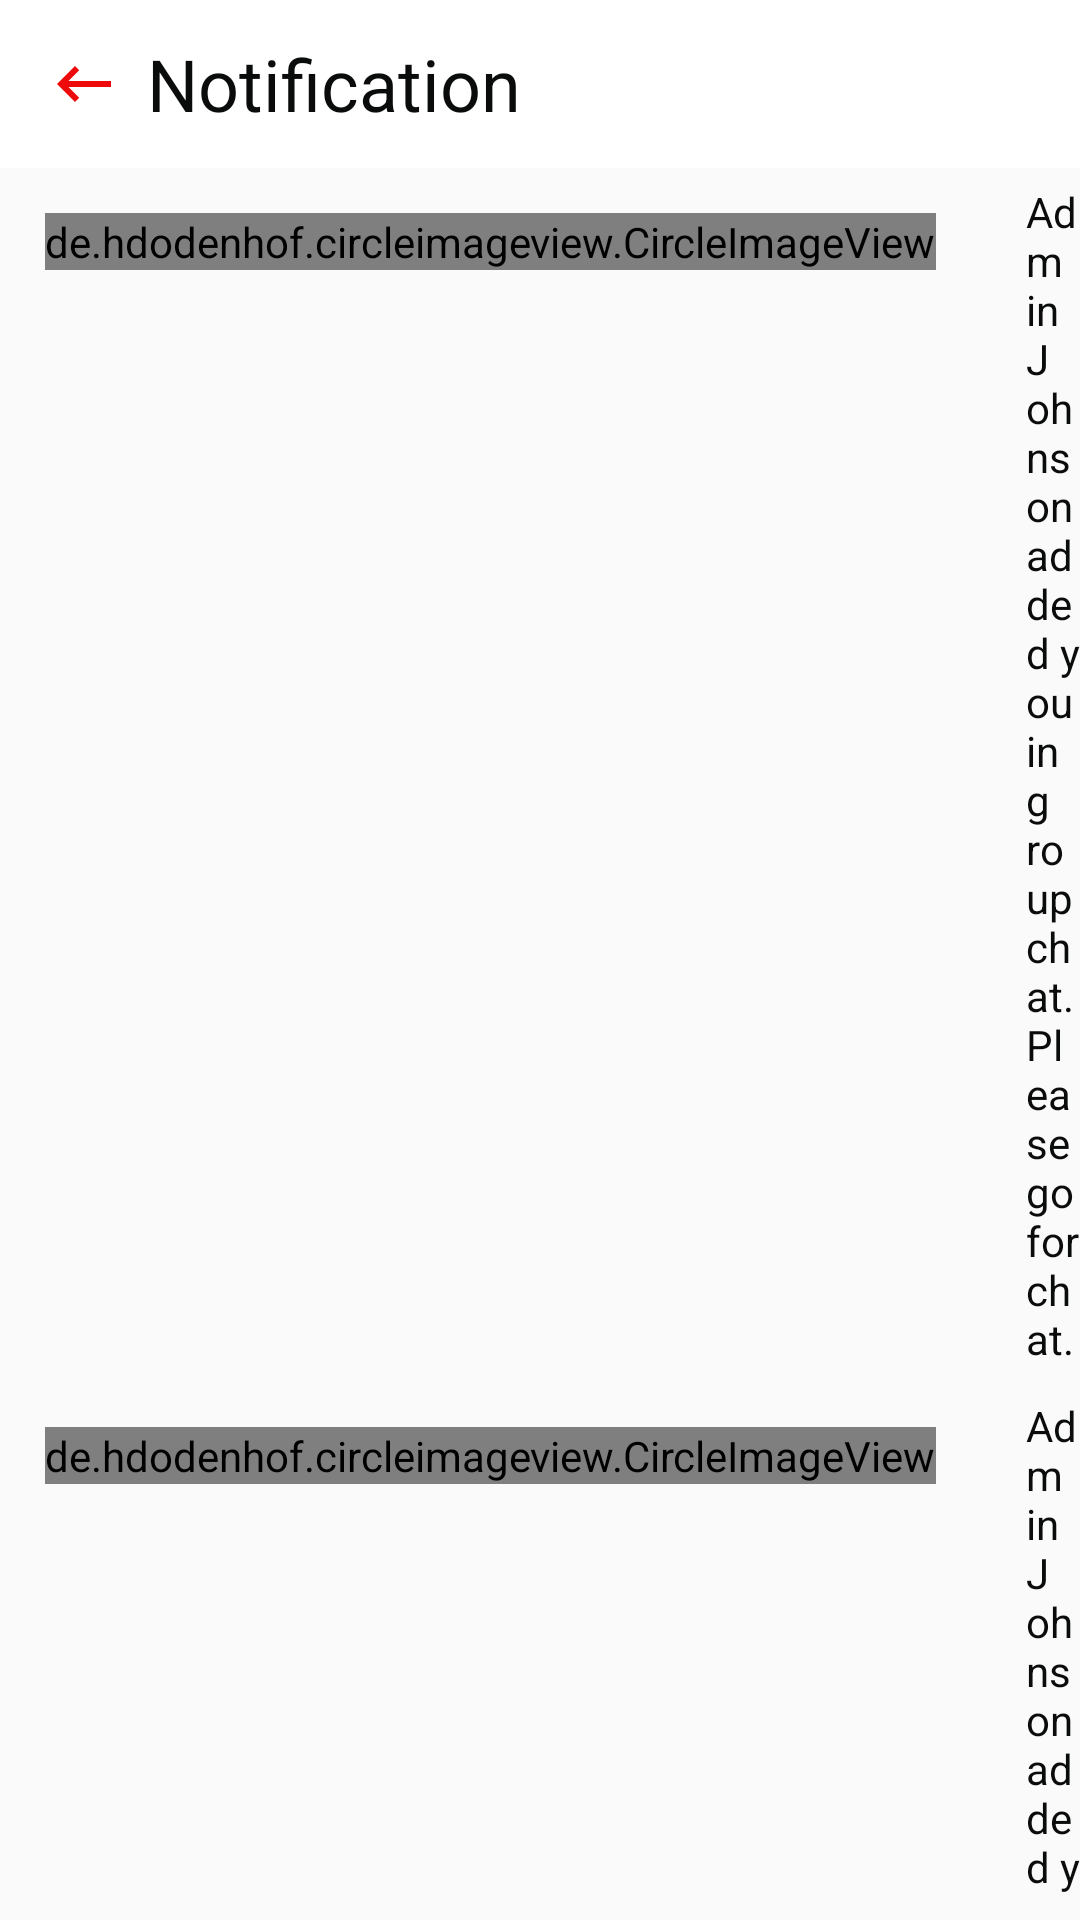

Where icons sit on this 1080×1920 app screen, as (x1, y1, x2, y2):
back arrow: (57, 66, 111, 102)
